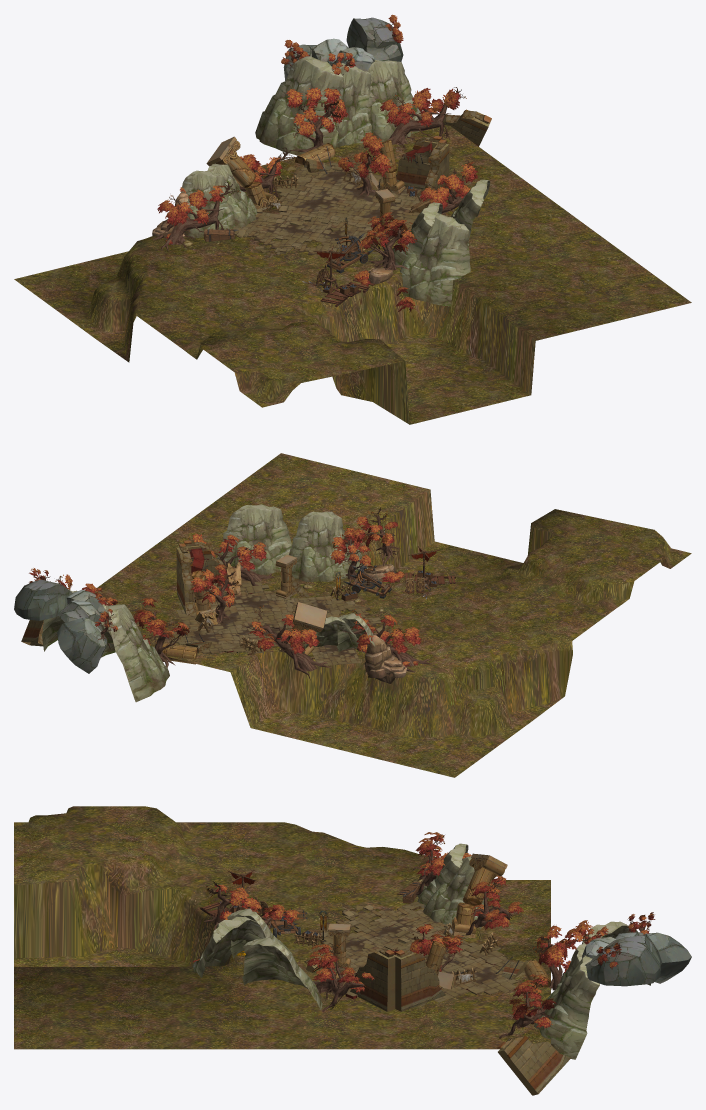
The picture shows the model from 3 angles, top to bottom: view 1: azimuth 30°, elevation 25°; view 2: azimuth 150°, elevation 25°; view 3: azimuth 270°, elevation 25°; orthographic projection. The views are drawn at different scales.
Parts seen in each view (by area): view 1: LD_02, 2_Misc_DaShiTou_01 (×8), 2_LDZC_ChengQiang_17, 2_LDZC_ChengQiang_02_01 (×3), 2_Plant_Fengshu_02_04 (×3), 2_Plant_Fengshu_02_01 (×2), 2_YiZhan_JuShi_03, 2_SM_ZhuangShi_01_01_01, 2_Plant_Fengshu_01_03, 2_Plant_Fengshu_01_01, 2_LDZC_ChengQiang_09; view 2: LD_02, 2_Misc_DaShiTou_01 (×6), 2_LDZC_ChengQiang_17, 2_Plant_Fengshu_02_04 (×3), 2_YiZhan_JuShi_02, 2_YiZhan_JuShi_03, 2_LDZC_ChengQiang_02_01 (×2), 2_LDZC_ChengQiang_09 (×2), 2_Plant_Fengshu_02_01 (×2), 2_Plant_Fengshu_01_01 (×2), 2_SM_Shitou_01_02, 2_SM_ZhuangShi_01_01_01 (+3 smaller); view 3: LD_02, 2_Misc_DaShiTou_01 (×7), 2_LDZC_ChengQiang_02_01 (×3), 2_YiZhan_JuShi_03, 2_Plant_Fengshu_02_04 (×4), 2_Plant_Fengshu_02_01 (×3), 2_LDZC_ChengQiang_17, 2_LDZC_ChengQiang_09 (×3), 2_SM_ZhuangShi_01_01_01 (×2), 2_YiZhan_JuShi_02, 2_LDZC_ChengQiang_06 (×2), 2_SM_ZhuangShi_01_01_03 (+3 smaller).
Part boxes in pixels (x1,y1,x2,y2): LD_02: (14,125,691,424); 2_Misc_DaShiTou_01 (×8): (181,56,490,306); 2_LDZC_ChengQiang_17: (262,166,421,229); 2_LDZC_ChengQiang_02_01 (×3): (396,109,491,190); 2_Plant_Fengshu_02_04 (×3): (157,93,464,226); 2_Plant_Fengshu_02_01 (×2): (152,87,466,250); 2_YiZhan_JuShi_03: (346,17,403,61); 2_SM_ZhuangShi_01_01_01: (206,136,255,187); 2_Plant_Fengshu_01_03: (286,87,322,125); 2_Plant_Fengshu_01_01: (288,97,345,152); 2_LDZC_ChengQiang_09: (273,216,330,239); LD_02: (95,453,691,777); 2_Misc_DaShiTou_01 (×6): (41,504,375,702); 2_LDZC_ChengQiang_17: (186,590,294,652); 2_Plant_Fengshu_02_04 (×3): (223,534,421,654); 2_YiZhan_JuShi_02: (57,617,106,673); 2_YiZhan_JuShi_03: (14,579,72,620); 2_LDZC_ChengQiang_02_01 (×2): (176,540,226,615); 2_LDZC_ChengQiang_09 (×2): (177,606,360,666); 2_Plant_Fengshu_02_01 (×2): (243,605,431,680); 2_Plant_Fengshu_01_01 (×2): (140,571,240,671); 2_SM_Shitou_01_02: (364,634,394,678); 2_SM_ZhuangShi_01_01_01: (292,602,327,633); LD_02: (14,806,550,1049); 2_Misc_DaShiTou_01 (×7): (192,843,650,1059); 2_LDZC_ChengQiang_02_01 (×3): (350,949,571,1095); 2_YiZhan_JuShi_03: (585,935,660,986); 2_Plant_Fengshu_02_04 (×4): (307,832,552,1028); 2_Plant_Fengshu_02_01 (×3): (309,877,553,1038); 2_LDZC_ChengQiang_17: (345,922,525,984); 2_LDZC_ChengQiang_09 (×3): (318,920,479,1002); 2_SM_ZhuangShi_01_01_01 (×2): (328,853,507,953); 2_YiZhan_JuShi_02: (644,932,691,983); 2_LDZC_ChengQiang_06 (×2): (464,942,517,994); 2_SM_ZhuangShi_01_01_03: (452,902,476,937).
Size of the model in its own units: 103 by 30.29 by 121.
